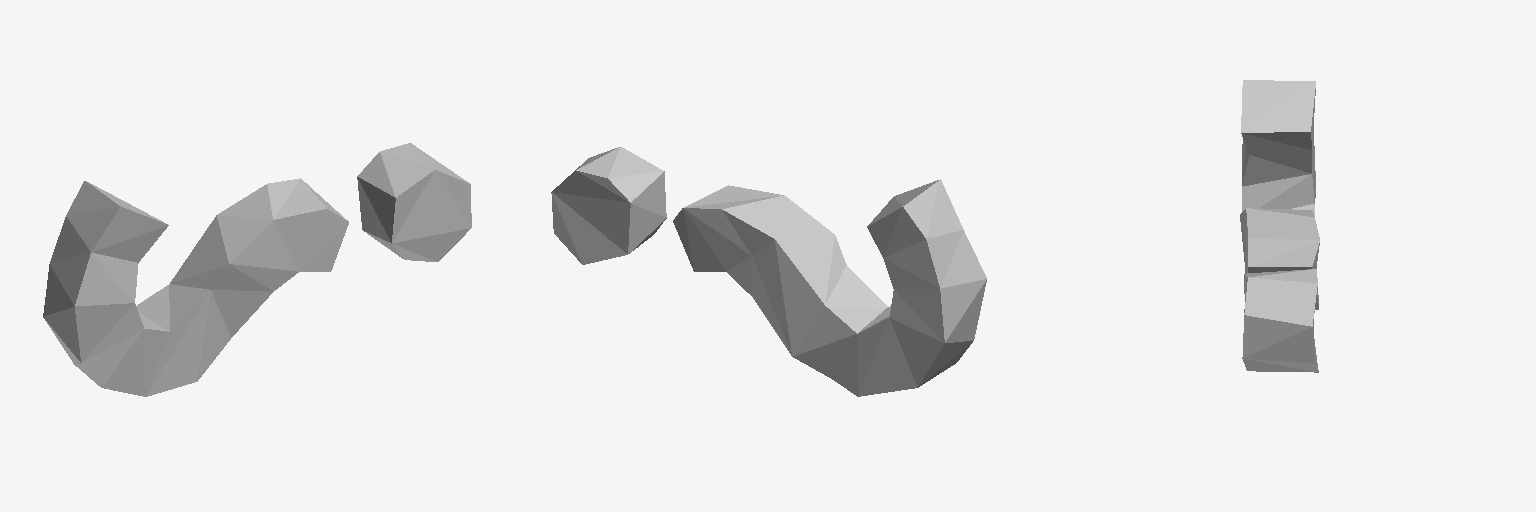
The model's file is 3d_fallback.obj.
The picture shows the model from 3 angles: view 1: azimuth 30°, elevation 25°; view 2: azimuth 150°, elevation 25°; view 3: azimuth 270°, elevation 25°; orthographic projection.
Parts seen in each view (by area): view 1: Fallback_Curve.007; view 2: Fallback_Curve.007; view 3: Fallback_Curve.007.
Part boxes in pixels (x1,y1,x2,y2): Fallback_Curve.007: (43,143,471,396); Fallback_Curve.007: (551,147,986,396); Fallback_Curve.007: (1240,80,1319,372).
Bounding box in the file's own units: 0.901 × 0.4336 × 0.1567.